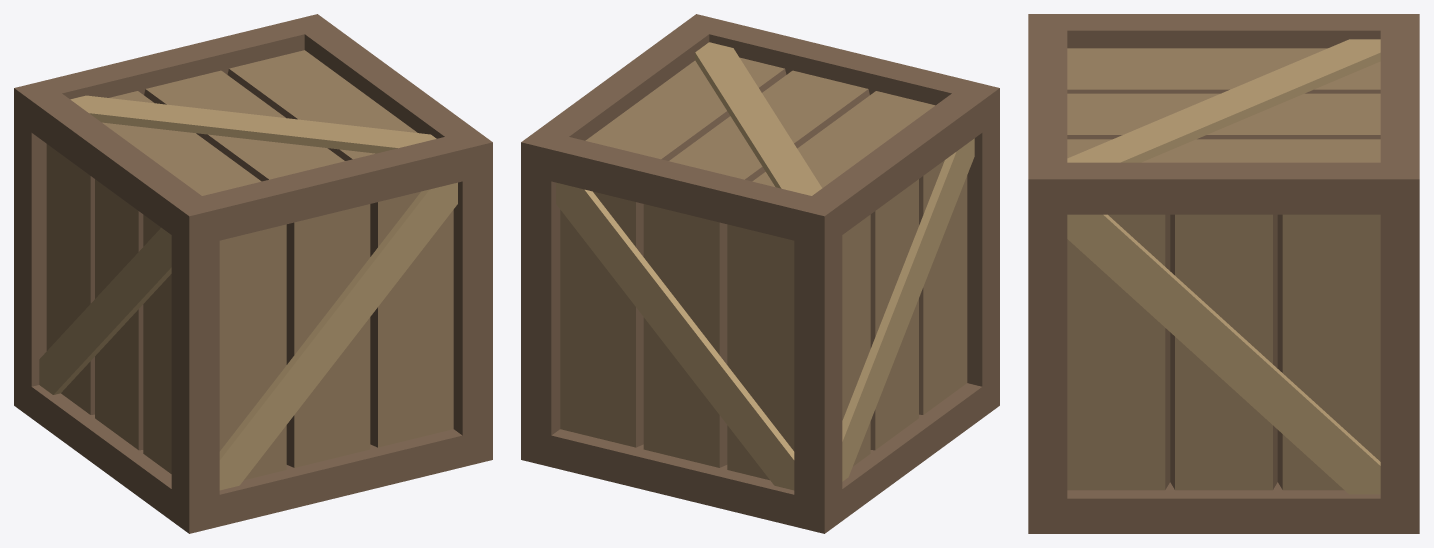
The model's file is Prop_Crate_1.obj.
The picture shows the model from 3 angles, left to right: view 1: azimuth 30°, elevation 25°; view 2: azimuth 150°, elevation 25°; view 3: azimuth 270°, elevation 25°; orthographic projection. The views are drawn at different scales.
Parts seen in each view (by area): view 1: object7, object3, object4, object2; view 2: object7, object6, object2, object4; view 3: object7, object5, object4.
Part boxes in pixels (x1=…): object7: x1=14, y1=14, x2=492, y2=533; object3: x1=219, y1=182, x2=457, y2=490; object4: x1=70, y1=95, x2=436, y2=153; object2: x1=39, y1=227, x2=171, y2=394; object7: x1=521, y1=14, x2=999, y2=533; object6: x1=556, y1=182, x2=794, y2=490; object2: x1=842, y1=138, x2=974, y2=481; object4: x1=695, y1=42, x2=822, y2=195; object7: x1=1028, y1=14, x2=1419, y2=533; object5: x1=1067, y1=214, x2=1380, y2=494; object4: x1=1067, y1=39, x2=1380, y2=162.
Bounding box in the file's own units: 1 × 1 × 1.
